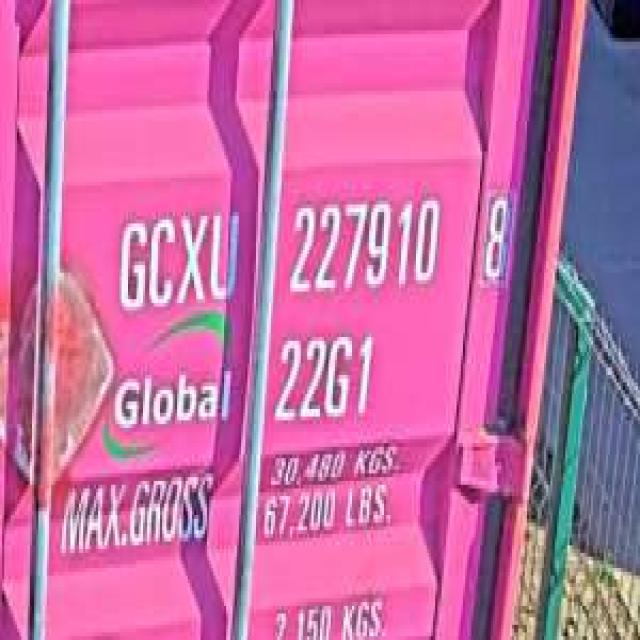dv: (478, 181, 514, 288)
owner: (115, 197, 241, 310)
serial: (288, 190, 442, 296)
size: (269, 326, 378, 426)
